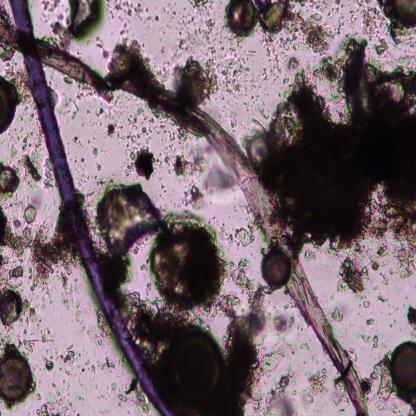Background material: (256, 41, 416, 273), (151, 215, 229, 318), (226, 285, 270, 414), (94, 181, 166, 258), (123, 291, 176, 362), (0, 199, 40, 289), (26, 213, 72, 290), (173, 156, 234, 210), (47, 0, 106, 46), (257, 349, 298, 414), (172, 54, 221, 108), (106, 39, 163, 85), (285, 9, 334, 57), (176, 0, 218, 54), (373, 1, 416, 43), (0, 284, 39, 329), (368, 353, 396, 411), (221, 55, 256, 99), (256, 0, 294, 39), (339, 254, 370, 298), (363, 7, 391, 55), (104, 1, 160, 25), (124, 146, 158, 180), (171, 146, 209, 176), (128, 108, 158, 145), (8, 326, 58, 347), (275, 56, 302, 94), (118, 378, 148, 412), (273, 301, 296, 344), (0, 159, 23, 198), (62, 288, 86, 325), (65, 367, 91, 400), (305, 366, 328, 403), (227, 222, 256, 250), (249, 90, 271, 126), (14, 70, 32, 111), (0, 9, 14, 60), (20, 153, 42, 185), (230, 262, 250, 294), (58, 92, 82, 118), (35, 398, 71, 414), (74, 155, 92, 186), (296, 342, 320, 365), (332, 0, 346, 34), (98, 354, 117, 376), (51, 379, 73, 398), (404, 303, 416, 336), (329, 304, 347, 325), (62, 347, 78, 368), (43, 158, 54, 187), (18, 134, 34, 152), (93, 103, 108, 119), (299, 0, 322, 10), (356, 332, 371, 347), (258, 67, 272, 82), (83, 358, 96, 374), (42, 355, 54, 372), (106, 121, 116, 140), (376, 293, 389, 303), (370, 333, 379, 347), (74, 132, 82, 147), (325, 292, 335, 303), (91, 146, 100, 158), (365, 316, 375, 326), (306, 251, 314, 263)
Cellulose filter fibre: (0, 25, 368, 416)
Diatom: (167, 328, 226, 404), (0, 354, 35, 404), (391, 338, 416, 394), (260, 247, 293, 289), (226, 1, 258, 38), (0, 76, 17, 135), (250, 136, 273, 168)
Hair textile: (10, 1, 172, 415)
